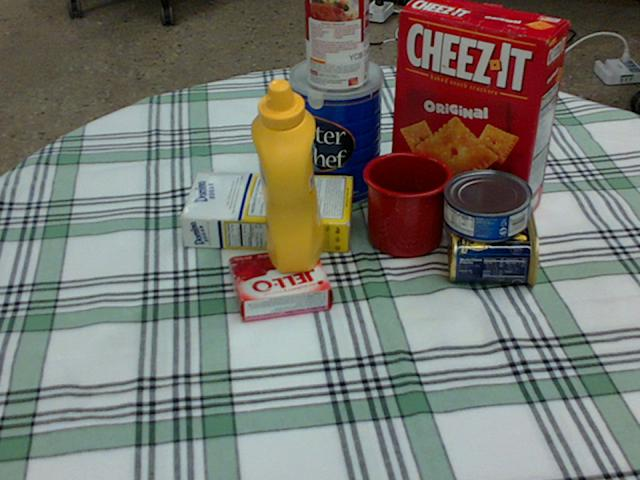cracker_box: (389, 0, 571, 225)
gelatin_box: (231, 247, 333, 321)
master_chef_can: (288, 55, 382, 207)
mug: (364, 150, 454, 256)
mustard_bottle: (251, 78, 323, 272)
potted_meat_can: (448, 193, 538, 282)
sugar_box: (178, 171, 352, 251)
tomato_soup_can: (305, 0, 370, 91)
tuna_fish_can: (443, 171, 532, 241)
